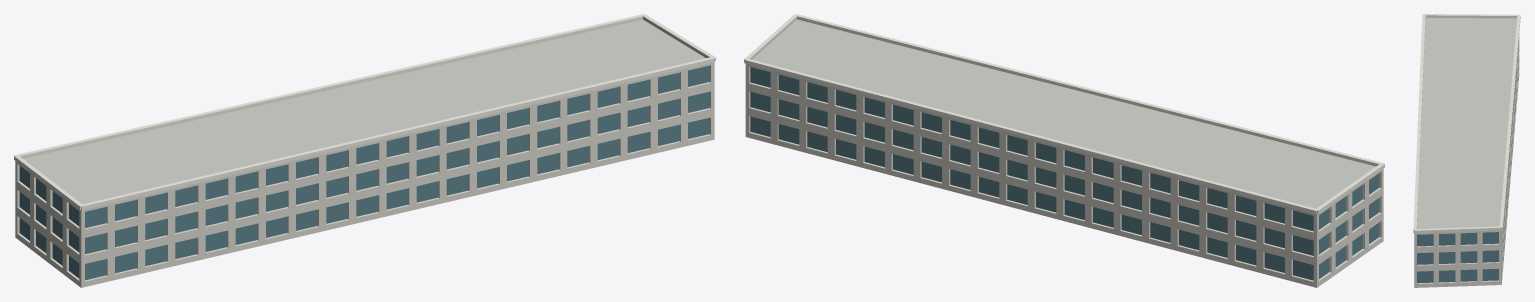
File: sb_1556523906.far.glb
The picture shows the model from 3 angles, left to right: view 1: azimuth 30°, elevation 25°; view 2: azimuth 150°, elevation 25°; view 3: azimuth 270°, elevation 25°; orthographic projection. The views are drawn at different scales.
Visible parts, largest first — view 1: roof, wall, glass, trim; view 2: roof, wall, glass, trim; view 3: roof, wall, trim, glass.
Part boxes in pixels (x1,y1,x2,y2): roof: (23,19,705,204); wall: (15,62,714,287); glass: (19,65,709,280); trim: (14,14,715,210); roof: (752,19,1375,208); wall: (745,64,1383,287); glass: (750,67,1379,280); trim: (744,14,1384,214); roof: (1417,17,1516,229); wall: (1414,35,1519,287); trim: (1413,14,1520,233); glass: (1417,232,1498,283).
Size of the model in its own units: 78.4 by 9.74 by 16.39.
